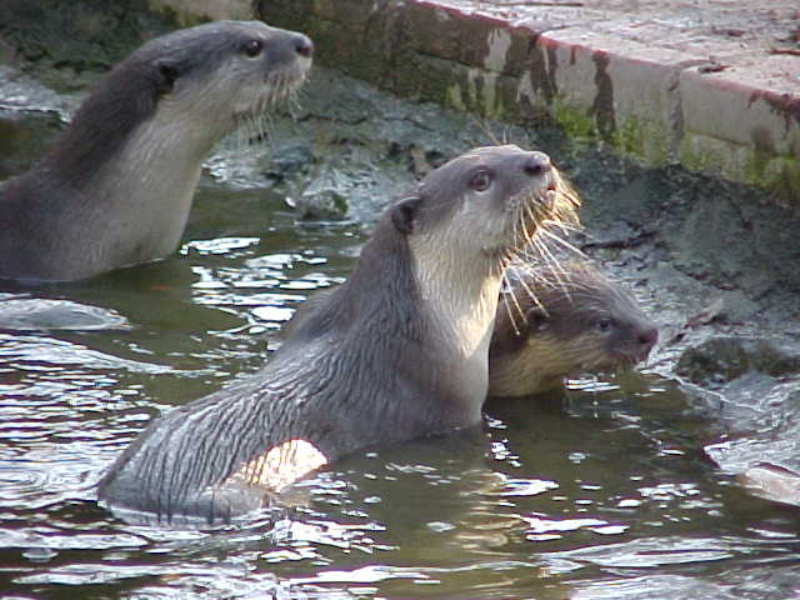minkish: (111, 140, 561, 536), (1, 19, 330, 290), (279, 245, 665, 400)
